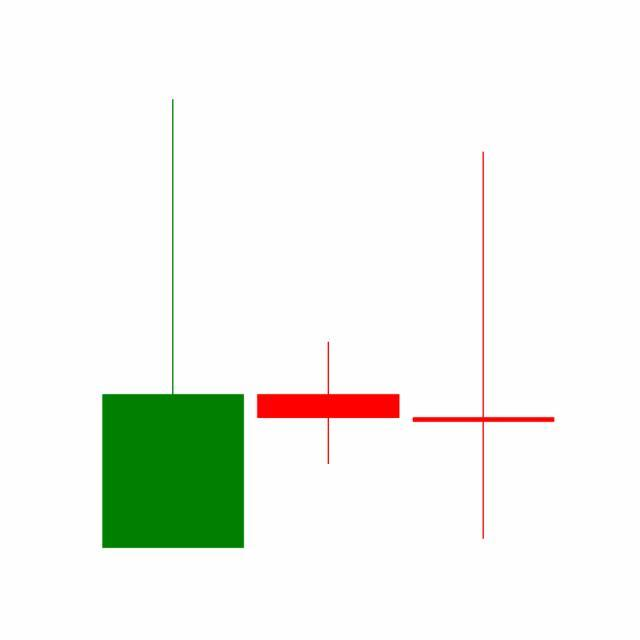Spinning Top: (406, 148, 562, 544)
